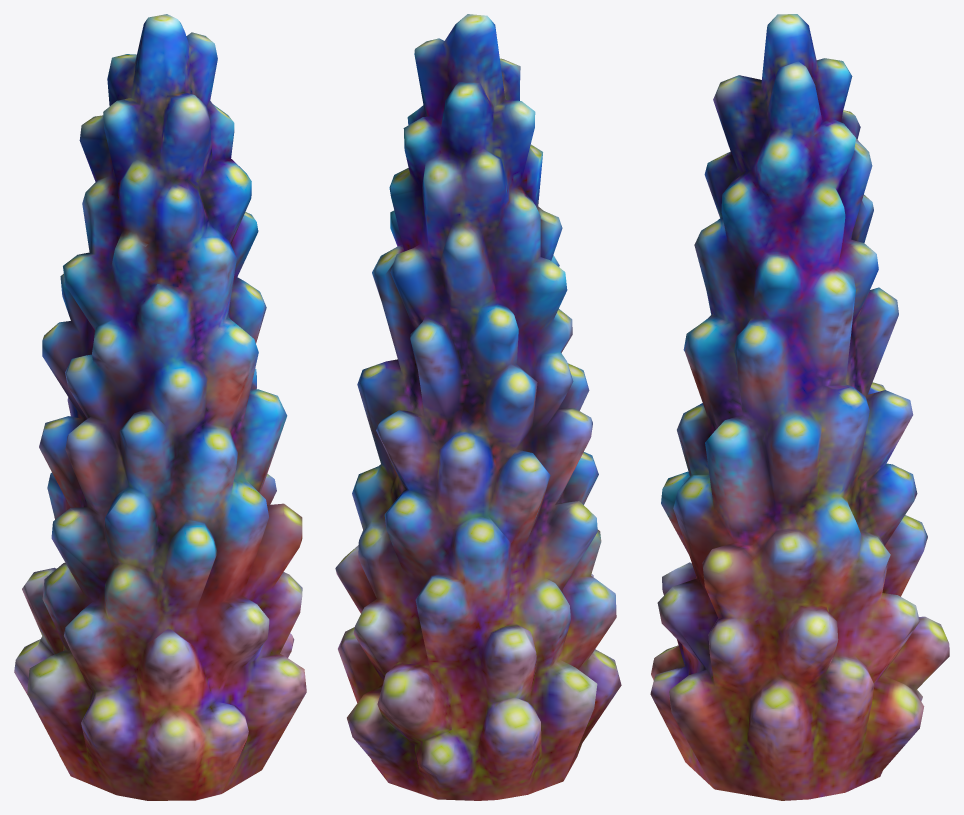
Rendered from Coral09.fbx.
3 renders of one model, left to right at view 1: azimuth 30°, elevation 25°; view 2: azimuth 150°, elevation 25°; view 3: azimuth 270°, elevation 25°, orthographic.
Visible parts, largest first — view 1: Coral1_1; view 2: Coral1_1; view 3: Coral1_1.
Part boxes in pixels (<box>): Coral1_1: <box>14,14,306,800</box>; Coral1_1: <box>335,14,621,800</box>; Coral1_1: <box>650,14,949,800</box>.
Size of the model in its own units: 38.1 by 107 by 39.04.
